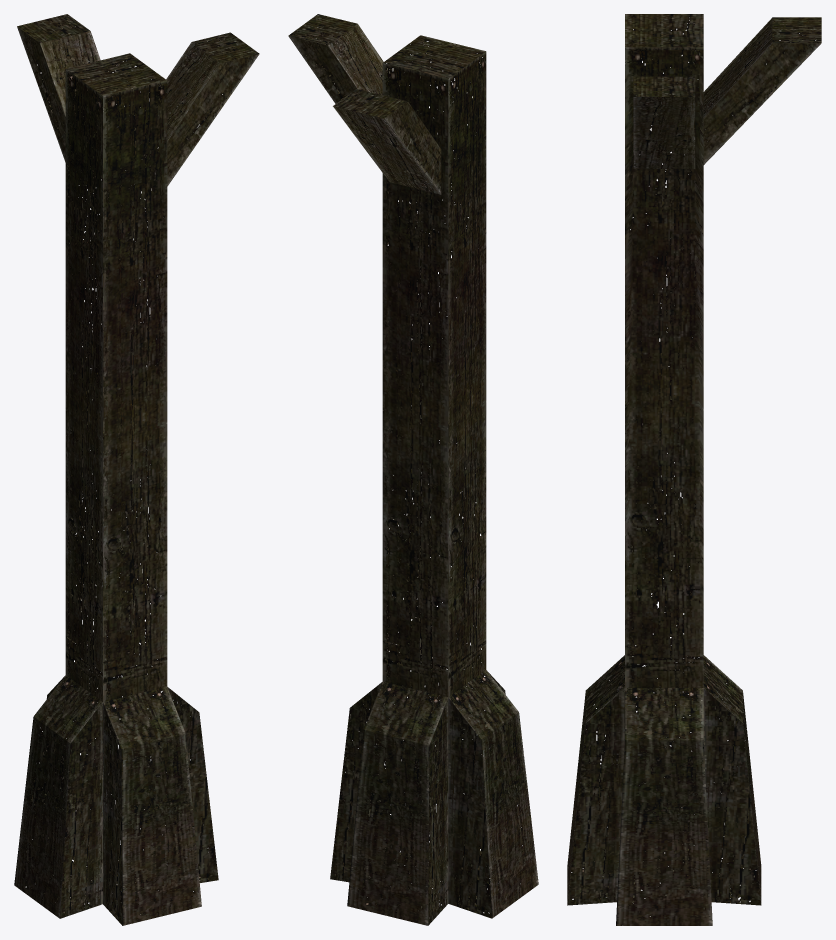
Rendered from wood_tall_corner.DAE.
3 views of the same model, side by side, from view 1: azimuth 30°, elevation 25°; view 2: azimuth 150°, elevation 25°; view 3: azimuth 270°, elevation 25° (orthographic). The views are drawn at different scales.
Parts seen in each view (by area): view 1: pCube006; view 2: pCube006; view 3: pCube006.
Part boxes in pixels (x1,y1,x2,y2): pCube006: (14,14,259,925); pCube006: (288,14,538,925); pCube006: (567,14,821,925).
Size of the model in its own units: 1.62 by 6 by 1.62.
